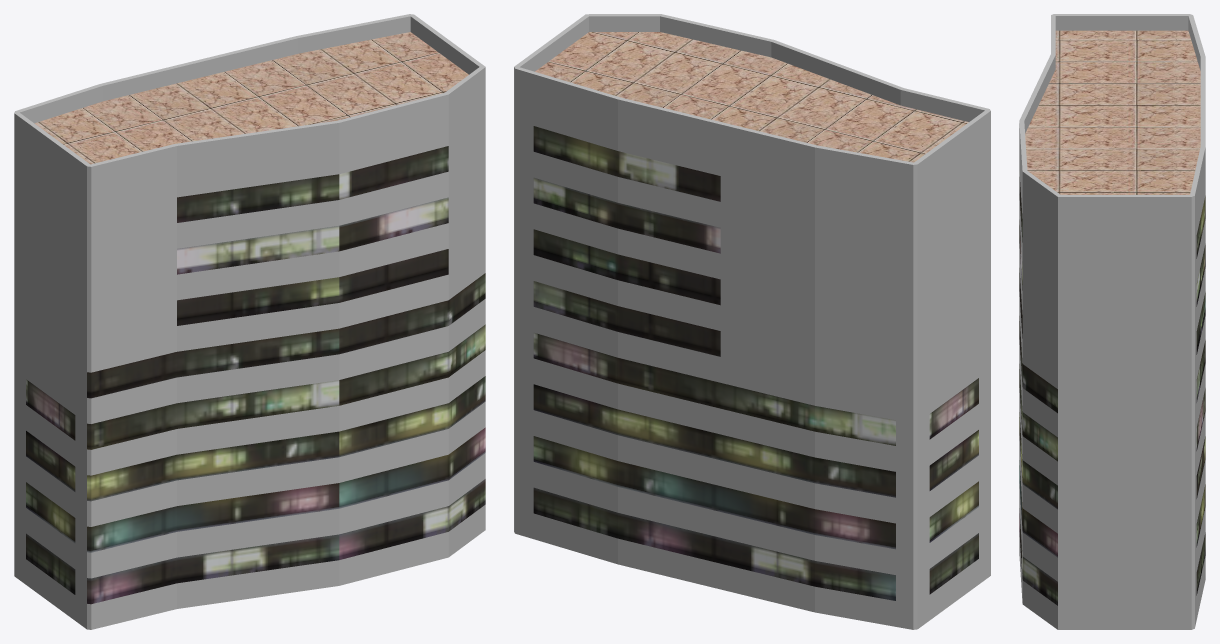
Rendered from hirise_12_8f.fbx.
The picture shows the model from 3 angles, left to right: view 1: azimuth 30°, elevation 25°; view 2: azimuth 150°, elevation 25°; view 3: azimuth 270°, elevation 25°; orthographic projection. The views are drawn at different scales.
Parts seen in each view (by area): view 1: hirise_12_8f; view 2: hirise_12_8f; view 3: hirise_12_8f.
Boxes of the visible parts, x1,y1,x2,y2 form: hirise_12_8f: (14, 14, 485, 629); hirise_12_8f: (514, 14, 990, 629); hirise_12_8f: (1019, 14, 1205, 629).
Size of the model in its own units: 29.67 by 32.74 by 12.77.
